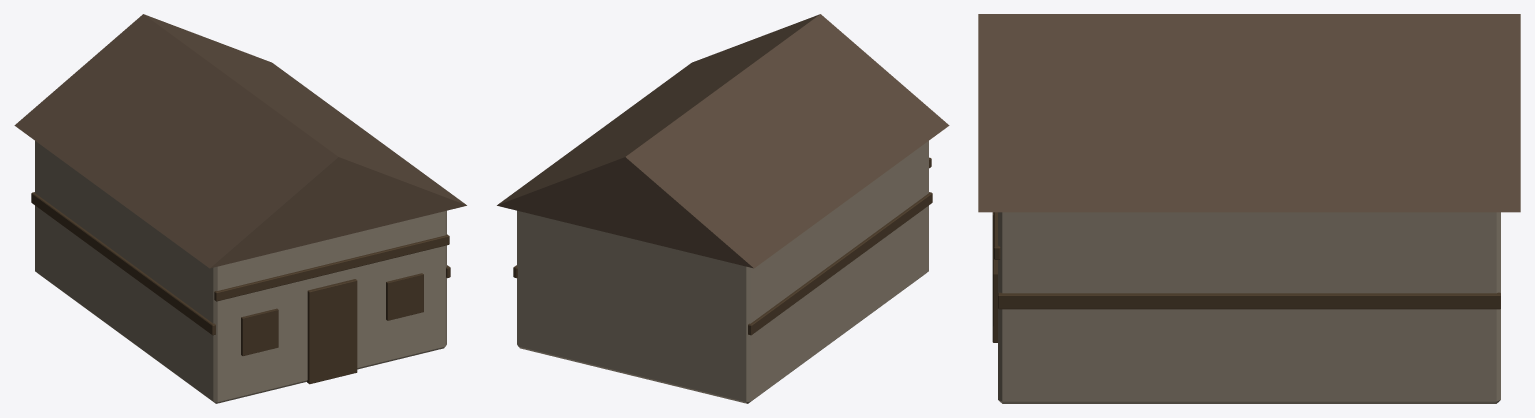
File: bld_house_a.glb
3 renders of one model, left to right at view 1: azimuth 30°, elevation 25°; view 2: azimuth 150°, elevation 25°; view 3: azimuth 270°, elevation 25°, orthographic. The views are drawn at different scales.
Visible parts, largest first — view 1: bld_house_a; view 2: bld_house_a; view 3: bld_house_a.
Boxes of the visible parts, x1,y1,x2,y2 form: bld_house_a: (14, 14, 466, 403); bld_house_a: (497, 14, 949, 403); bld_house_a: (978, 14, 1520, 403).
Size of the model in its own units: 6.4 by 5.35 by 8.4.
